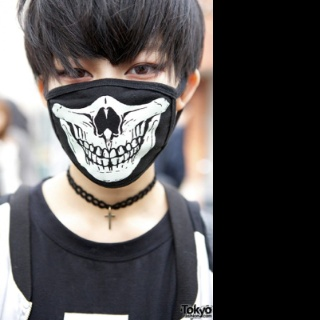with_mask: (44, 37, 178, 190)
